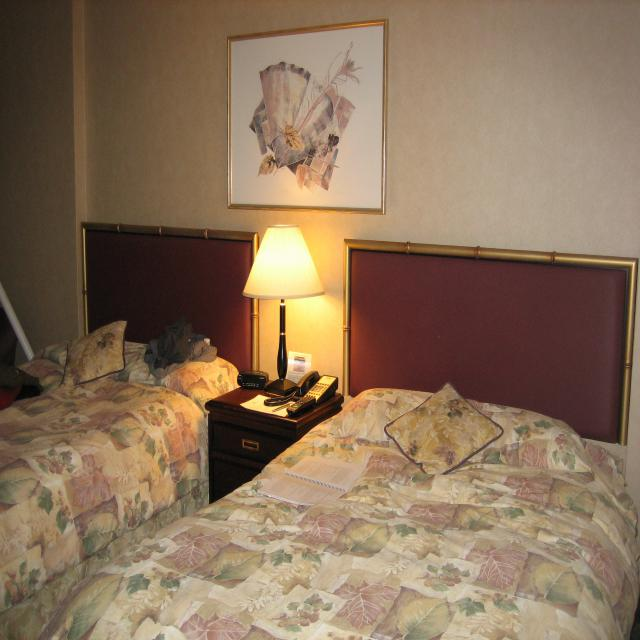bed -occluded-: (43, 390, 635, 639), (3, 320, 242, 631)
clock crop: (238, 369, 269, 390)
painting crop: (227, 19, 388, 215)
phone charger: (293, 371, 339, 405)
table leg: (243, 224, 325, 397)
